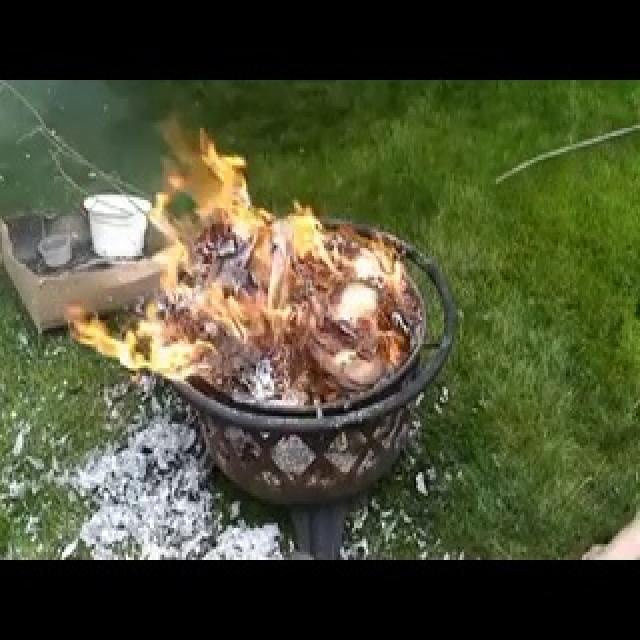fire: (70, 121, 408, 415)
